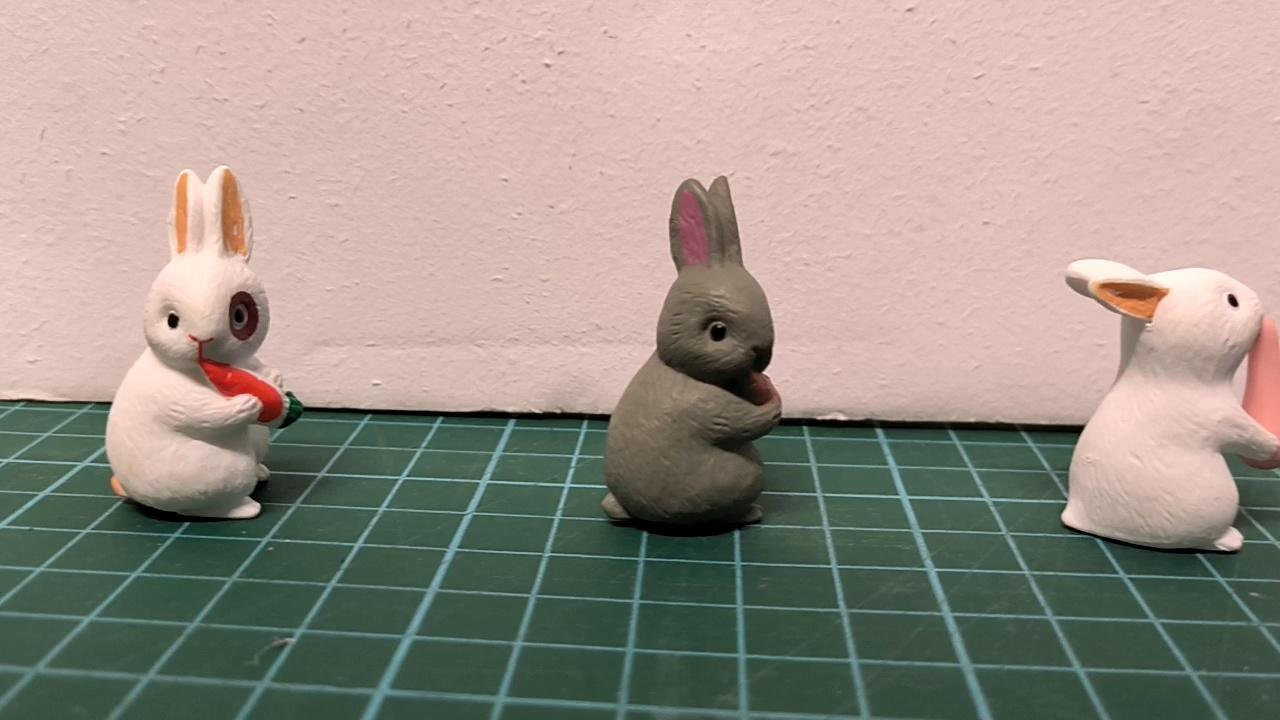pet: (101, 164, 305, 521), (1061, 255, 1280, 553), (602, 172, 784, 529)
